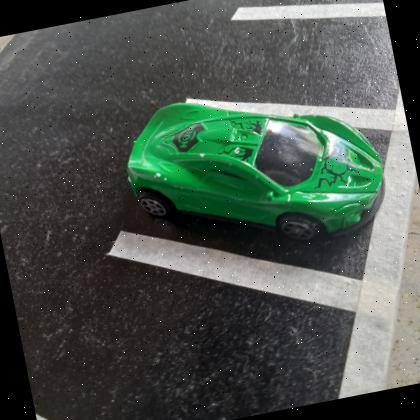Car: (127, 99, 385, 243)
